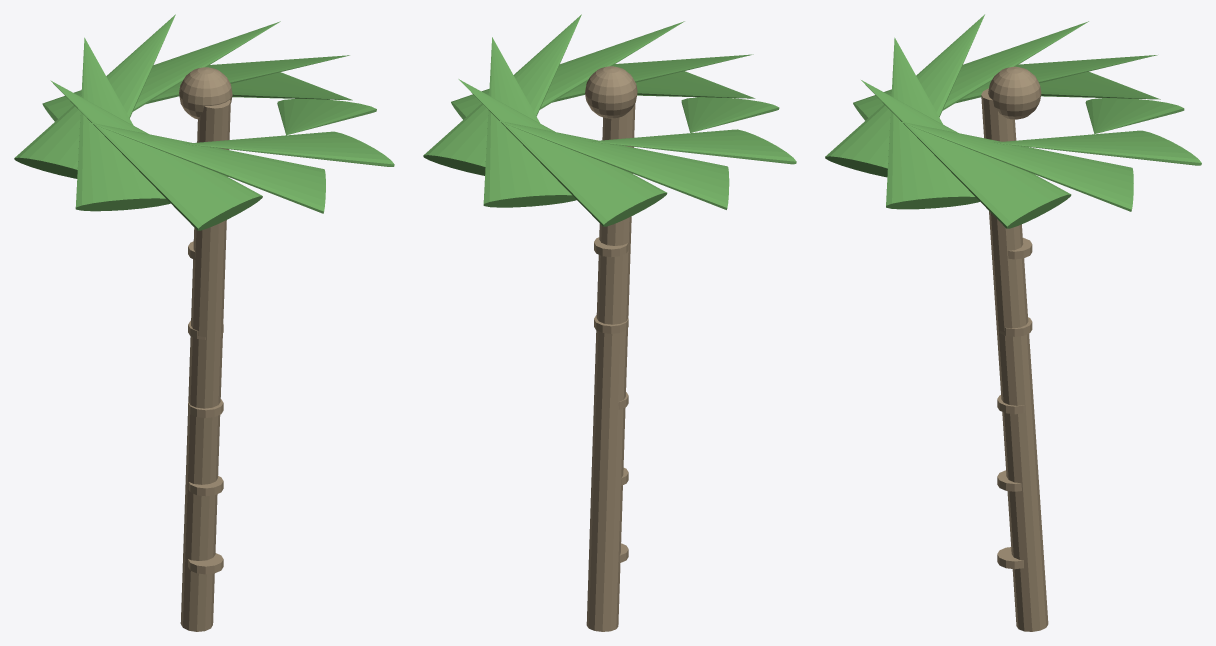
Rendered from palm.glb.
3 views of the same model, side by side, from view 1: azimuth 30°, elevation 25°; view 2: azimuth 150°, elevation 25°; view 3: azimuth 270°, elevation 25° (orthographic).
Visible parts, largest first — view 1: palm; view 2: palm; view 3: palm.
Part boxes in pixels (bbox=[...]): palm: bbox=[14, 14, 394, 631]; palm: bbox=[423, 14, 796, 631]; palm: bbox=[825, 14, 1201, 631].
Bounding box in the file's own units: 7 × 11.51 × 7.06.
